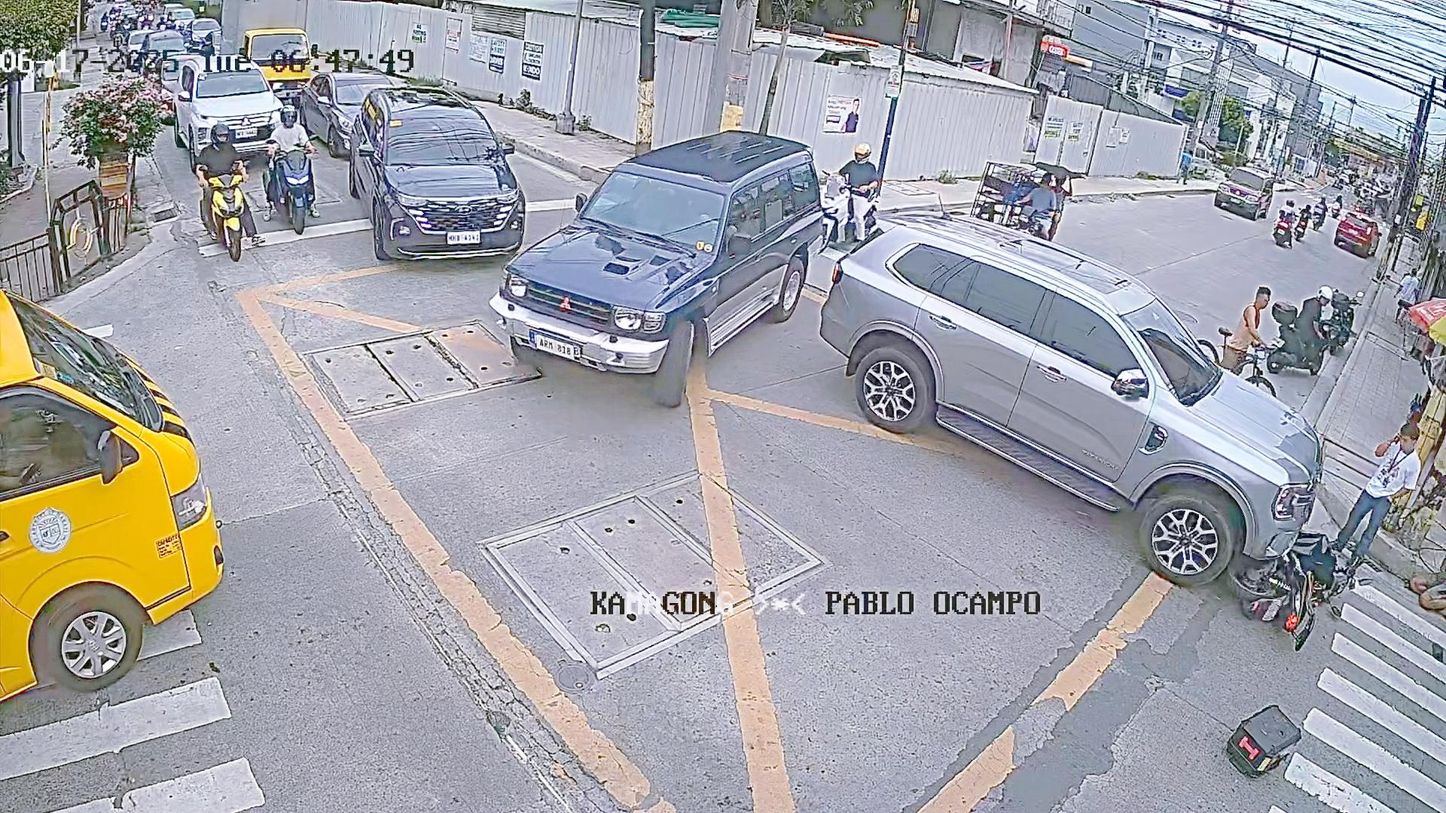Car: (817, 203, 1309, 560), (0, 260, 318, 709), (496, 119, 833, 398), (346, 85, 542, 256), (159, 69, 288, 154), (303, 66, 398, 152)
Minor Accident: (799, 201, 1374, 643)
Motor: (1227, 515, 1360, 615), (813, 142, 883, 249), (261, 149, 328, 246), (205, 158, 267, 255), (1269, 293, 1333, 377)
Not Accident: (518, 107, 892, 383)
